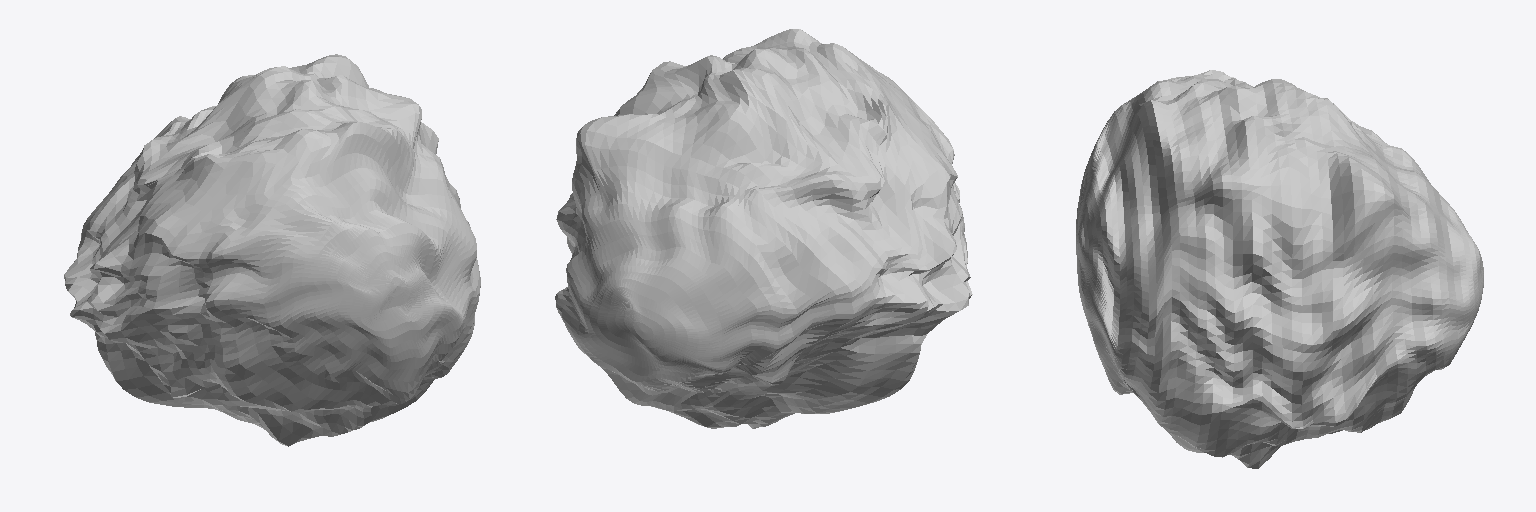
The model's file is asteroid2.obj.
The picture shows the model from 3 angles: view 1: azimuth 30°, elevation 25°; view 2: azimuth 150°, elevation 25°; view 3: azimuth 270°, elevation 25°; orthographic projection.
Parts seen in each view (by area): view 1: asteroid2; view 2: asteroid2; view 3: asteroid2.
Part boxes in pixels (bbox=[...]): asteroid2: bbox=[64, 54, 480, 446]; asteroid2: bbox=[555, 29, 972, 428]; asteroid2: bbox=[1076, 70, 1483, 468].
Size of the model in its own units: 2.66 by 2.42 by 2.44.